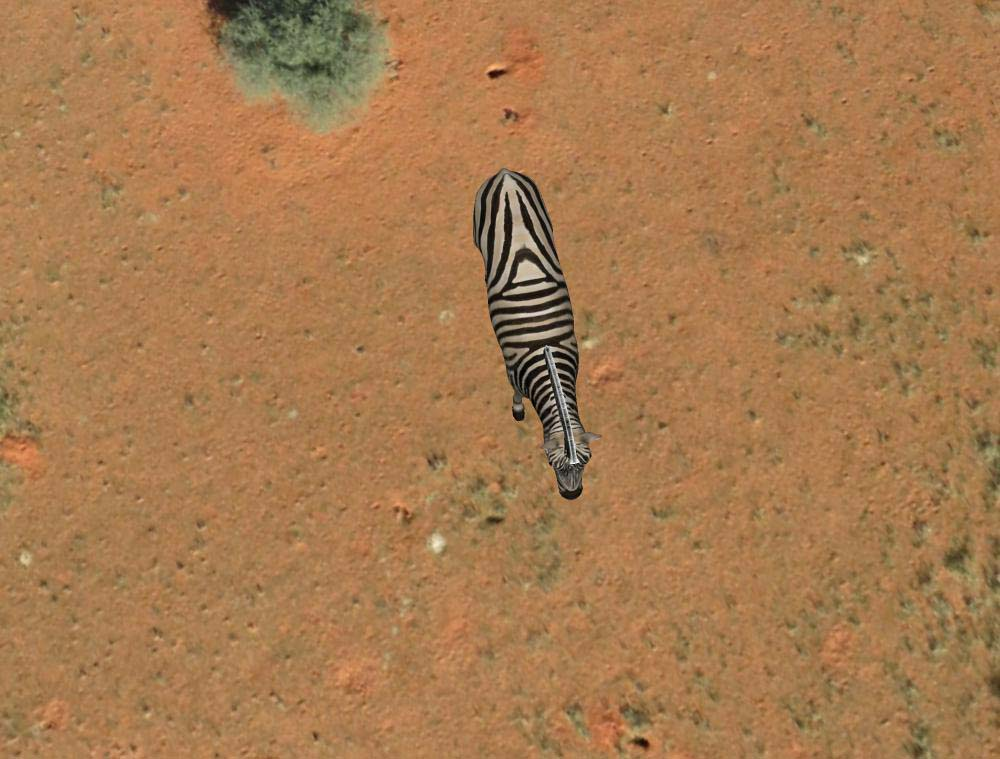zebra: (467, 169, 601, 500)
